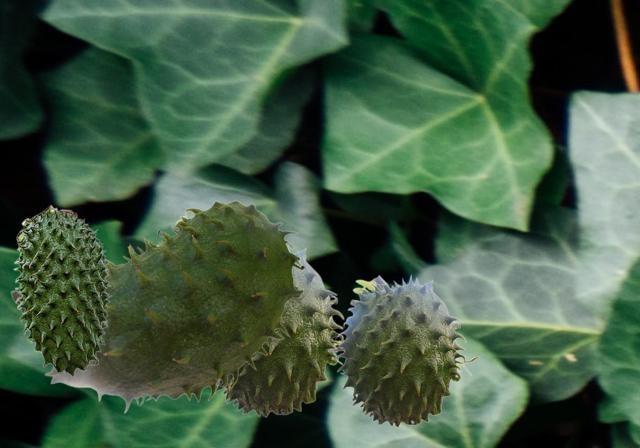guyabano: (10, 200, 304, 413), (327, 273, 479, 427), (217, 244, 344, 417), (13, 204, 111, 376)
